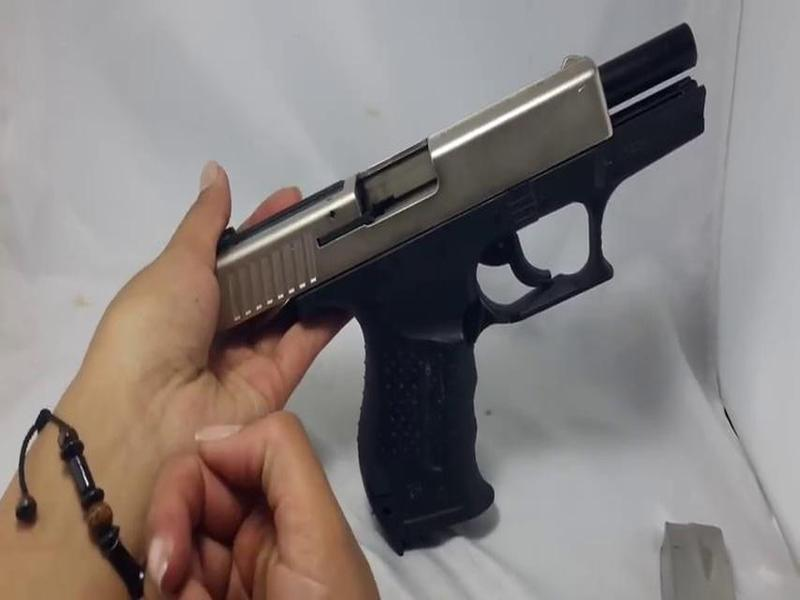Pistola: (193, 19, 710, 555)
